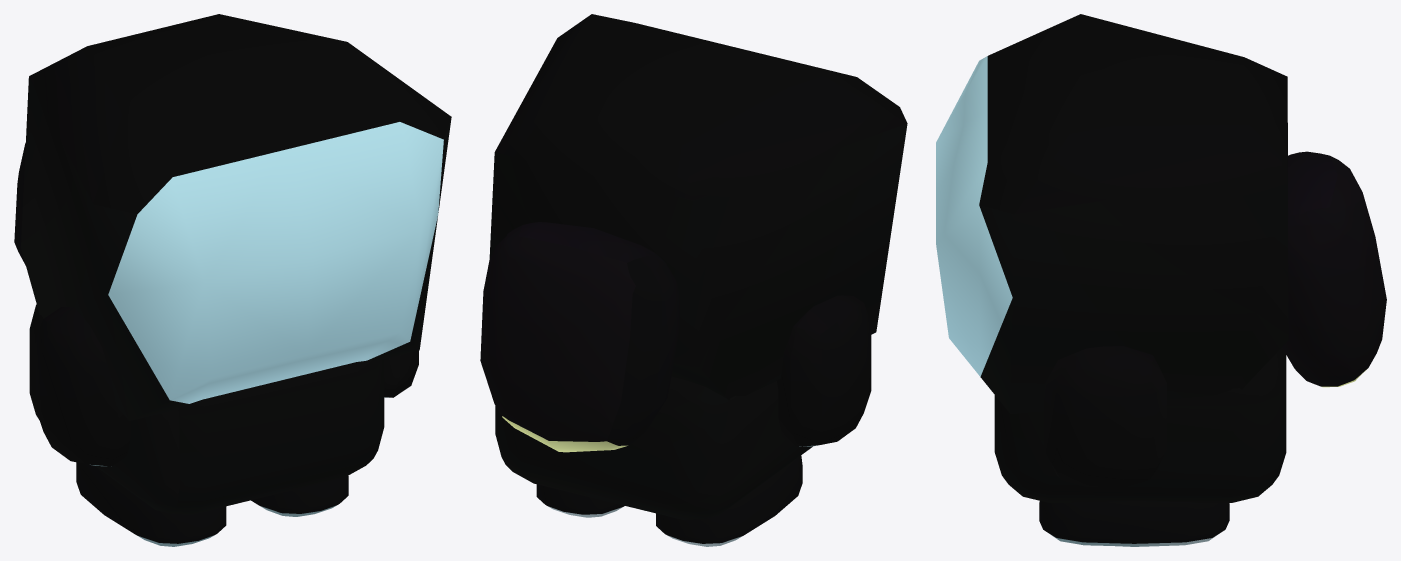
Rendered from player.glb.
The picture shows the model from 3 angles, left to right: view 1: azimuth 30°, elevation 25°; view 2: azimuth 150°, elevation 25°; view 3: azimuth 270°, elevation 25°; orthographic projection. The views are drawn at different scales.
Visible parts, largest first — view 1: head, body, arms, arms.001, jetpack; view 2: head, jetpack, body, arms, arms.001; view 3: head, body, jetpack, arms, arms.001.
Part boxes in pixels (x1,y1,x2,y2): head: (21,14,451,420); body: (29,304,384,514); arms: (36,307,418,466); arms.001: (76,462,348,546); jetpack: (14,143,25,265); head: (489,14,907,400); jetpack: (480,222,679,452); body: (495,376,812,519); arms: (777,295,871,446); arms.001: (536,455,802,546); head: (936,14,1288,413); body: (994,347,1286,502); jetpack: (1282,151,1386,387); arms: (1044,346,1166,487); arms.001: (1039,501,1229,546).
Bounding box in the file's own units: 0.7931 × 0.9752 × 0.8952.
1 material, 1 textured.
